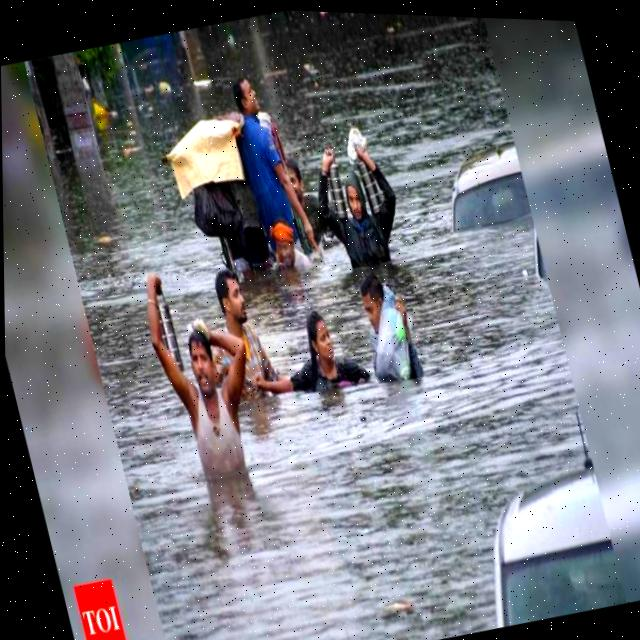civilian: (131, 256, 259, 509), (216, 59, 326, 267), (300, 115, 421, 292), (239, 294, 383, 442), (198, 260, 283, 427), (349, 274, 437, 403), (276, 150, 340, 271), (259, 206, 320, 295)
